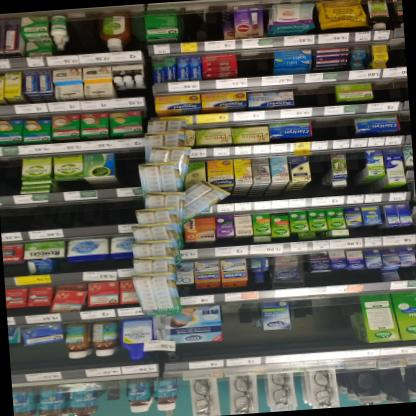empty_space: (0, 190, 131, 241), (287, 285, 352, 352), (225, 293, 263, 358), (67, 7, 103, 53), (186, 0, 222, 44), (312, 105, 353, 141), (238, 36, 273, 76), (295, 72, 333, 107), (373, 67, 409, 102), (0, 145, 17, 195)
